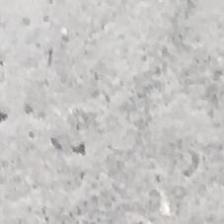Non_Crack: (29, 44, 224, 182)
